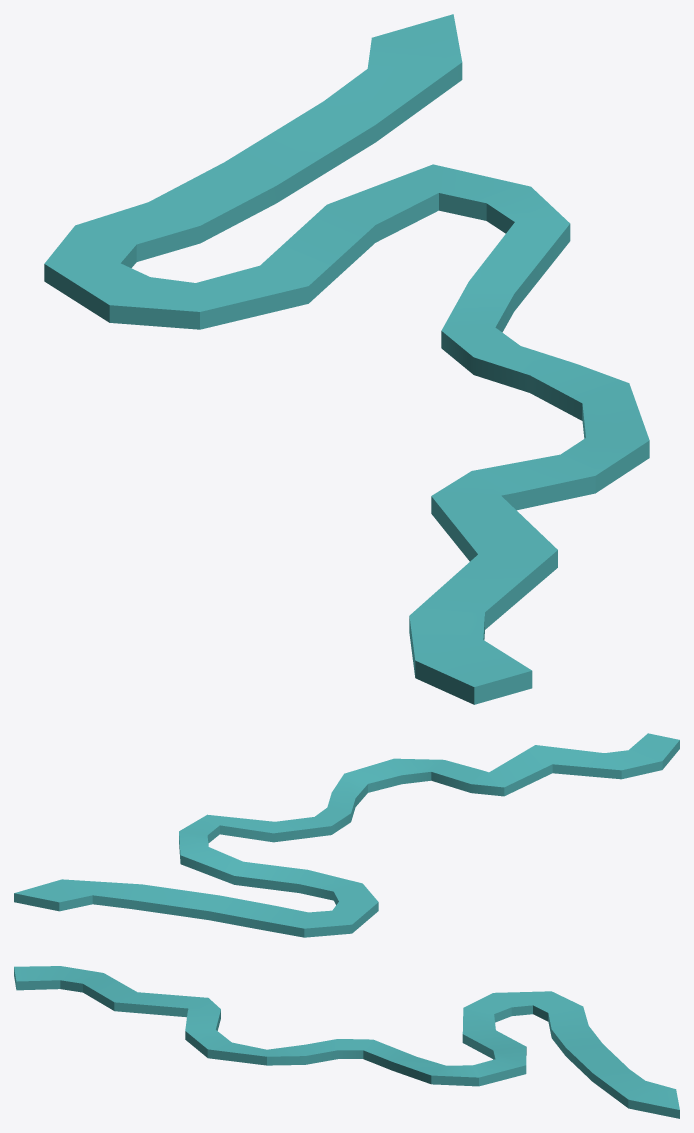
File: river.fbx
3 views of the same model, one above another, from view 1: azimuth 30°, elevation 25°; view 2: azimuth 150°, elevation 25°; view 3: azimuth 270°, elevation 25° (orthographic). The views are drawn at different scales.
Parts seen in each view (by area): view 1: river; view 2: river; view 3: river.
Part boxes in pixels (x1,y1,x2,y2): river: (44,14,649,704); river: (14,733,679,937); river: (14,966,679,1118).
Bounding box in the file's own units: 11895 × 953 × 20864.
